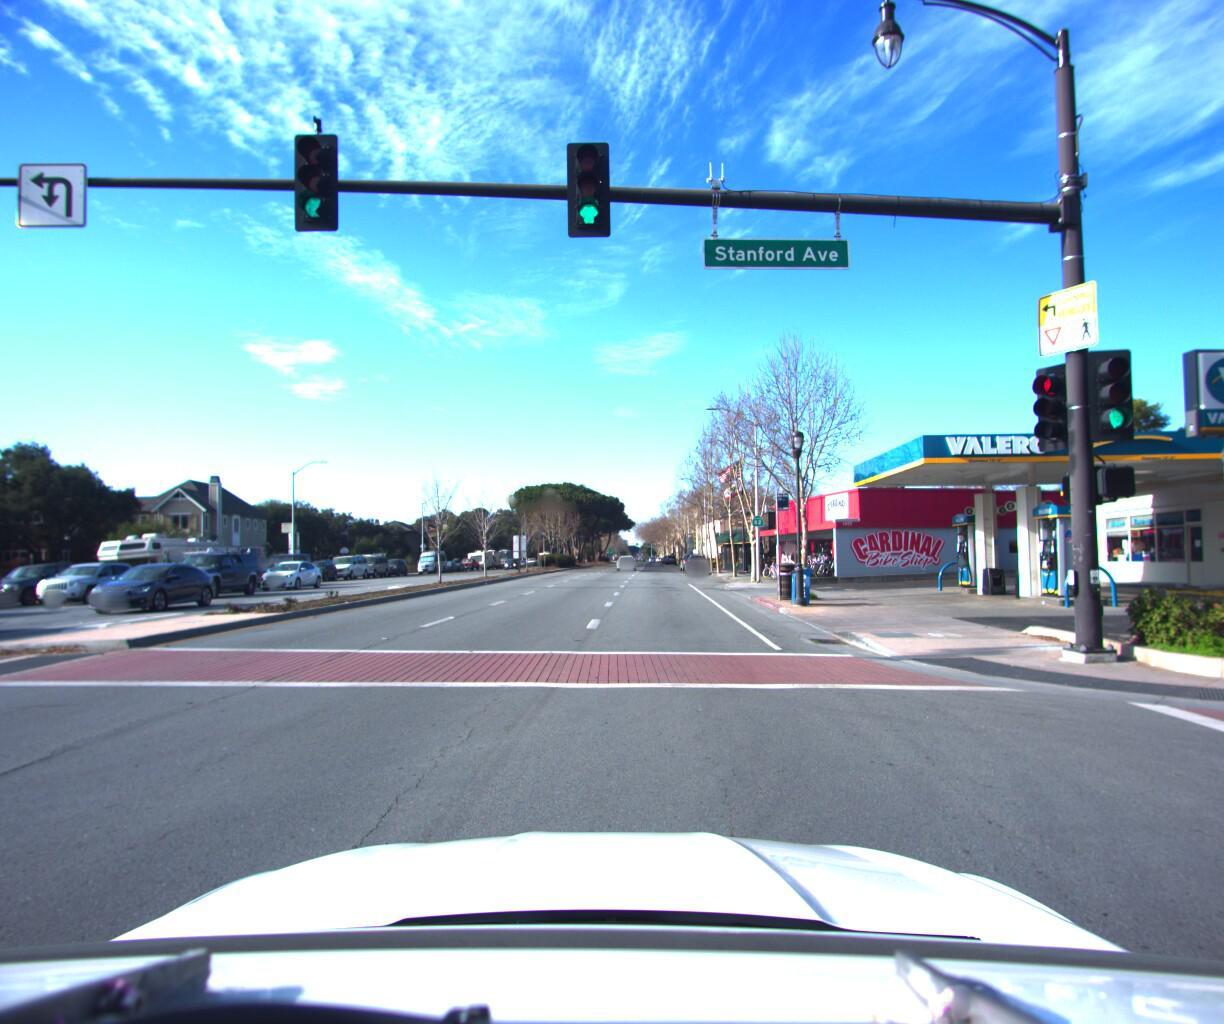bicycle: (810, 545, 842, 568)
car: (71, 558, 233, 617), (148, 545, 276, 600), (135, 540, 263, 594), (30, 556, 152, 607), (0, 558, 103, 610), (192, 540, 274, 588), (252, 557, 332, 592), (0, 558, 18, 673), (322, 549, 374, 577), (348, 547, 393, 576), (299, 553, 343, 580), (0, 559, 17, 621), (376, 552, 411, 573), (684, 546, 710, 570), (615, 548, 637, 564)
other_vehicle: (88, 527, 229, 599)
